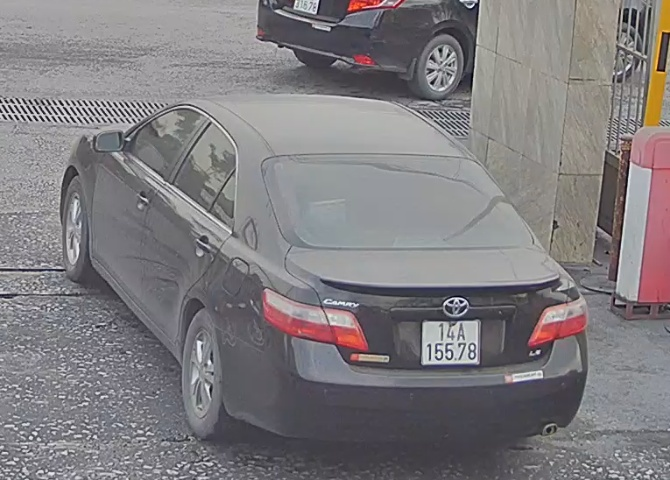vehicle plate: (419, 315, 484, 370)
